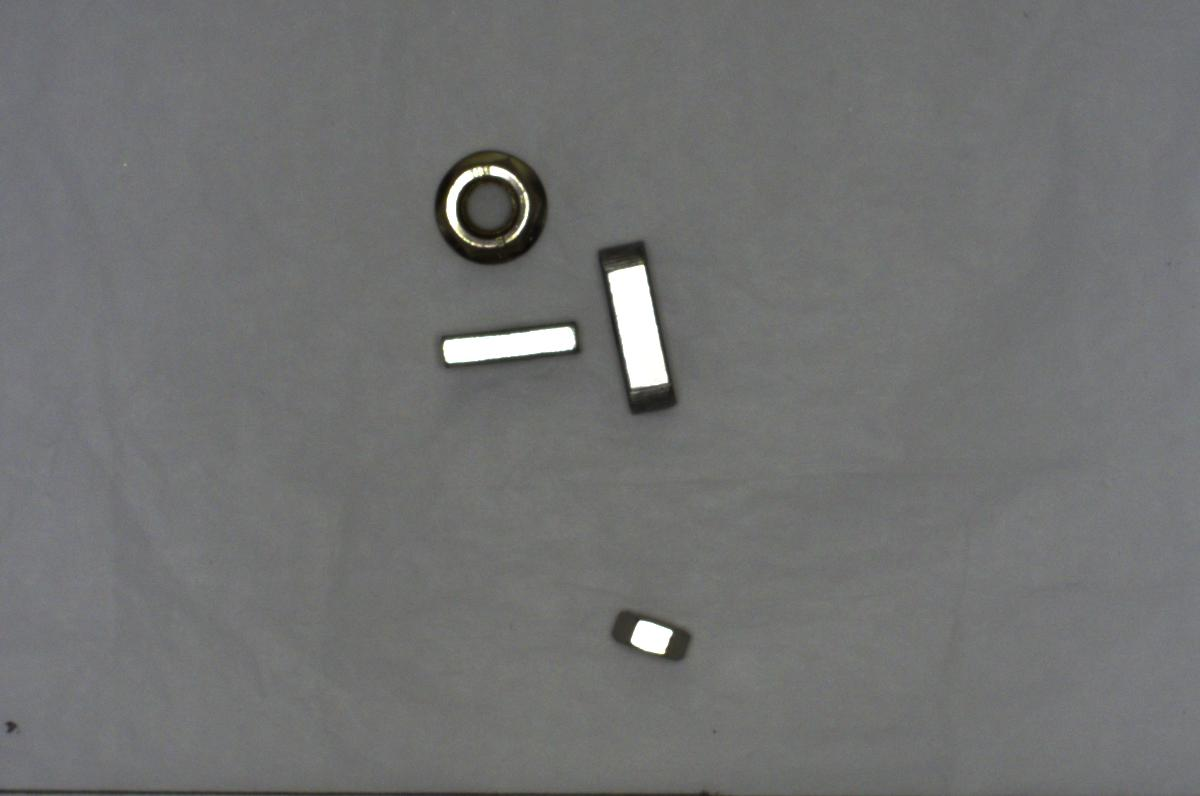Flange nut: (415, 139, 548, 265)
Hexagon nut: (601, 598, 693, 670)
Keybar: (593, 228, 680, 420)
Rectangular nut: (432, 307, 585, 381)
